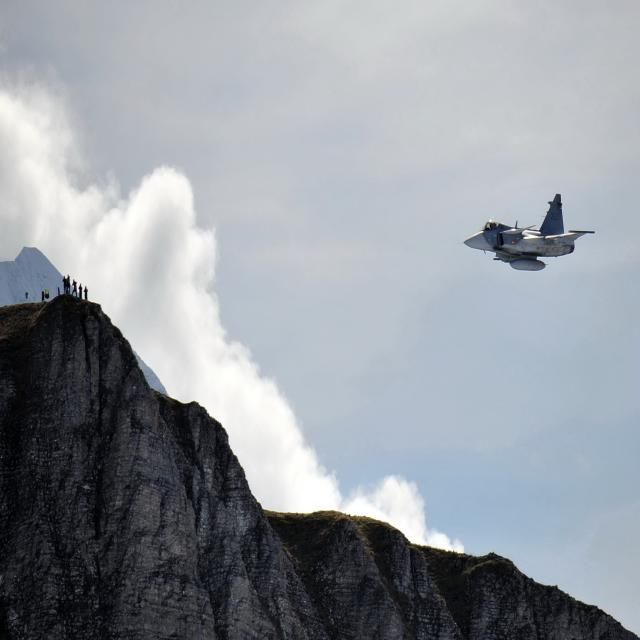MIL_Plane: (457, 192, 595, 270)
